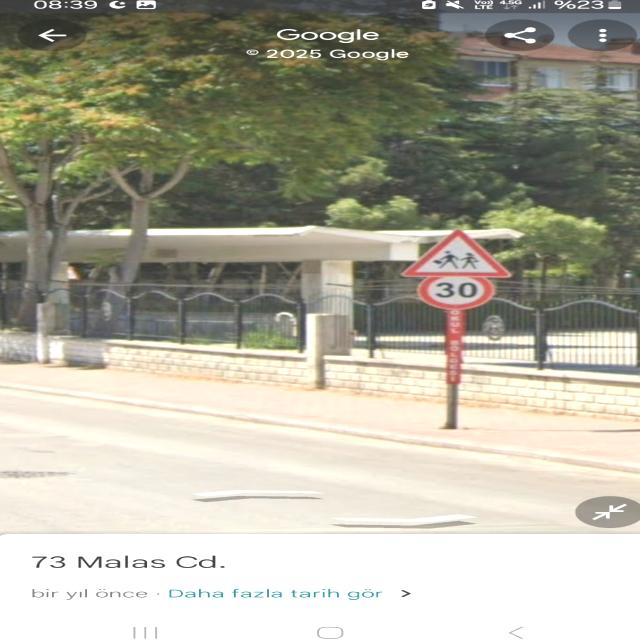okul_gecidi: (401, 228, 512, 276)
